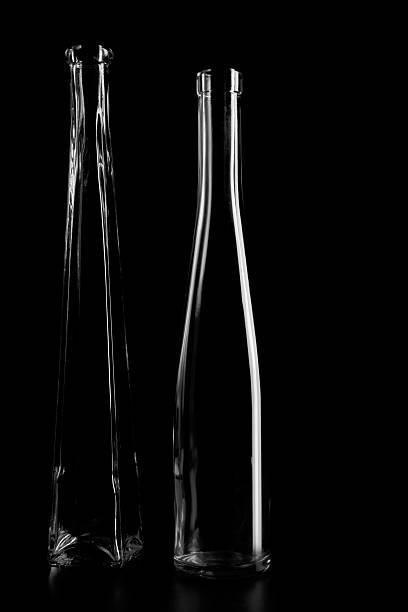bottle-glass: (27, 37, 158, 574), (158, 58, 280, 582)
